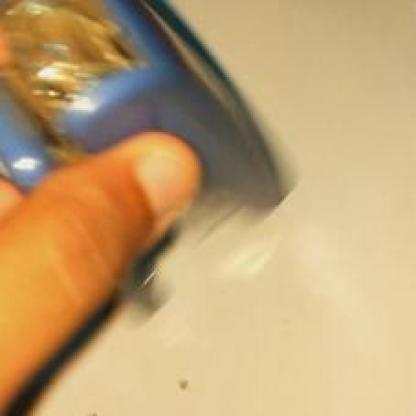stapler: (4, 0, 292, 325)
